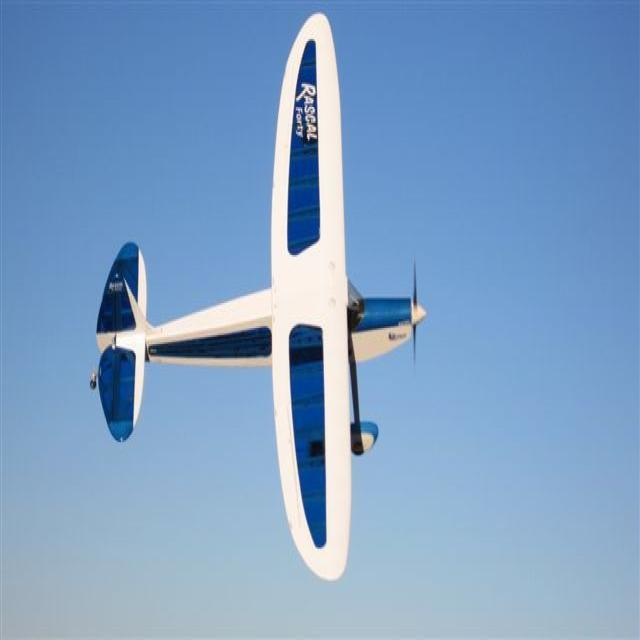iha: (88, 13, 429, 583)
